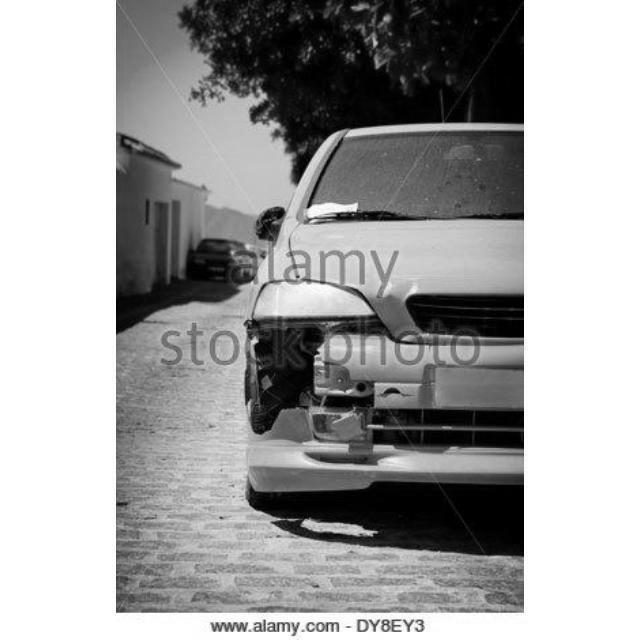front-bumper-dent: (232, 311, 523, 500)
